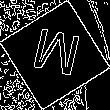M_S: (27, 25, 83, 85)
